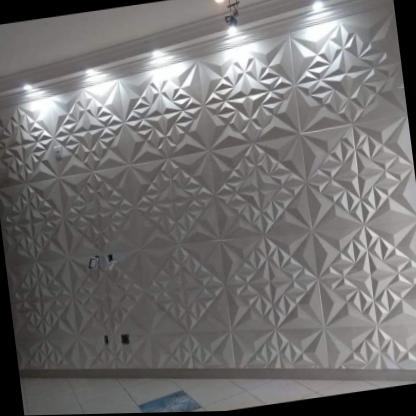Futech tiles: (24, 72, 402, 330)
